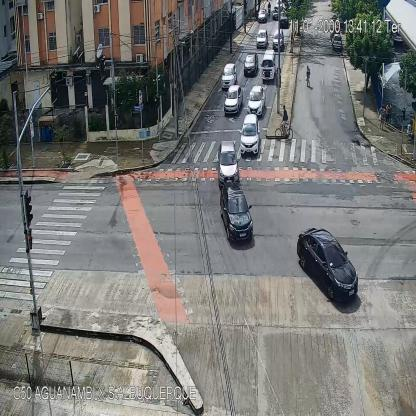bicycle: (274, 105, 294, 142)
car: (298, 227, 360, 304), (221, 184, 254, 242), (219, 142, 240, 185), (241, 114, 259, 156), (248, 84, 264, 117), (260, 48, 276, 81), (225, 85, 242, 115), (221, 62, 236, 90), (244, 54, 260, 77), (273, 30, 284, 50), (256, 30, 268, 47), (279, 12, 289, 28), (332, 34, 342, 50), (257, 9, 266, 22), (273, 6, 279, 18)
motorbike: (267, 2, 271, 14)
person: (385, 102, 392, 128), (379, 104, 385, 130), (305, 65, 311, 88), (250, 7, 252, 19)
